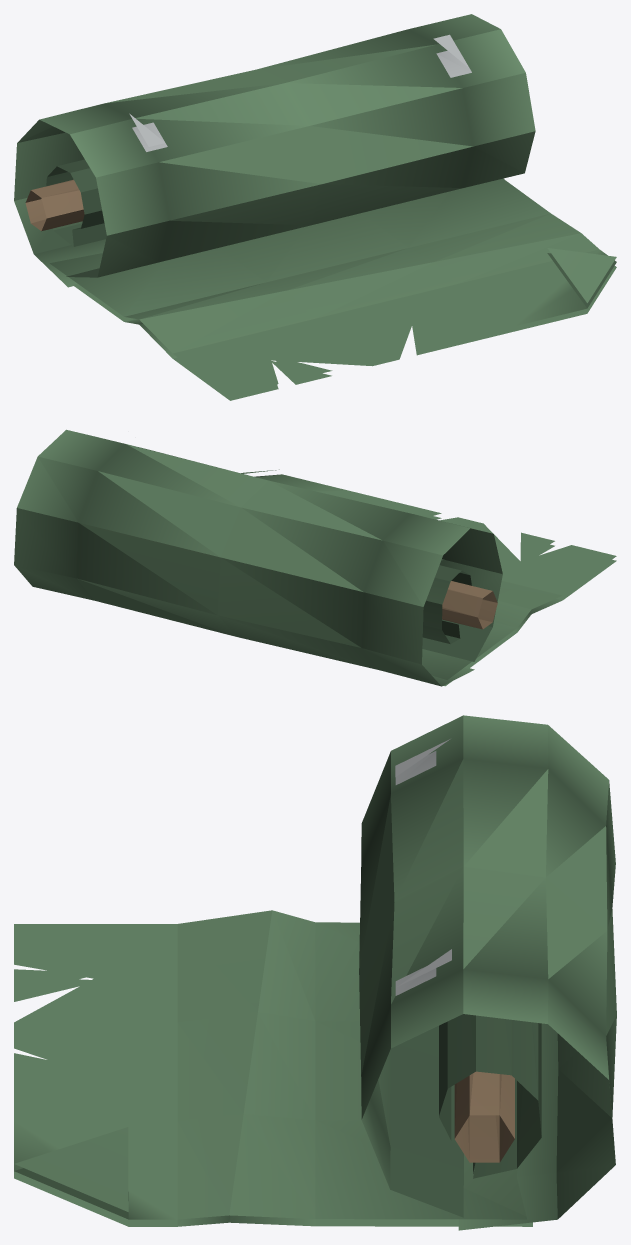
The model's file is tarp.lod.glb.
3 renders of one model, top to bottom at view 1: azimuth 30°, elevation 25°; view 2: azimuth 150°, elevation 25°; view 3: azimuth 270°, elevation 25°, orthographic. The views are drawn at different scales.
Visible parts, largest first — view 1: tarp; view 2: tarp; view 3: tarp.
Boxes of the visible parts, x1,y1,x2,y2 form: tarp: (14,14,616,400); tarp: (14,429,616,686); tarp: (14,715,616,1230).
Size of the model in its own units: 3.15 by 1.01 by 2.4.
